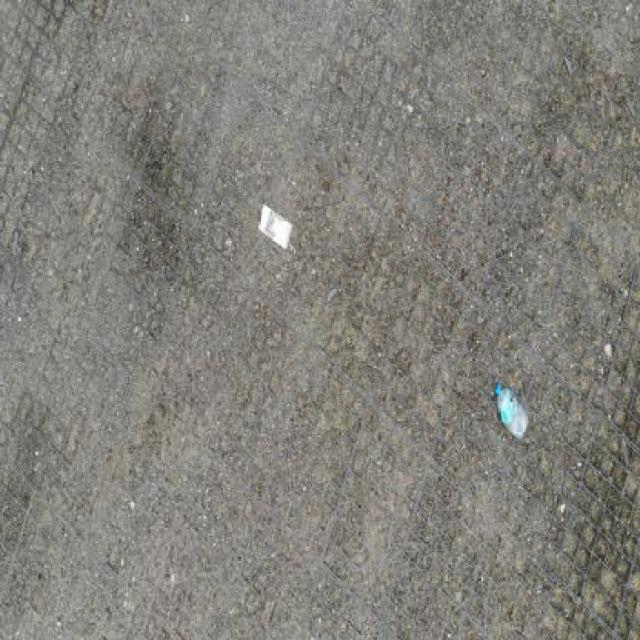Garbage: (496, 385, 530, 440), (258, 203, 293, 251)
